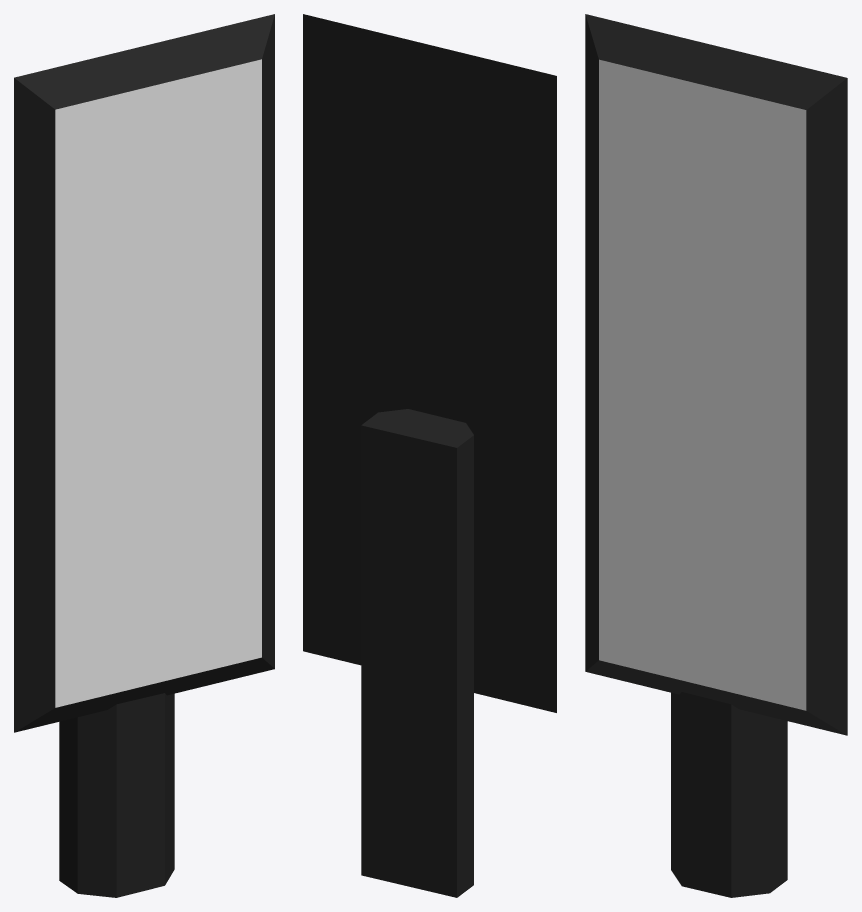
The model's file is StructureLight03_Art.fbx.
3 renders of one model, left to right at view 1: azimuth 30°, elevation 25°; view 2: azimuth 150°, elevation 25°; view 3: azimuth 330°, elevation 25°, orthographic. The views are drawn at different scales.
Visible parts, largest first — view 1: StructureLight03_Art; view 2: StructureLight03_Art; view 3: StructureLight03_Art.
Boxes of the visible parts, x1,y1,x2,y2 form: StructureLight03_Art: [14, 14, 274, 897]; StructureLight03_Art: [303, 14, 556, 897]; StructureLight03_Art: [585, 14, 847, 897].
Bounding box in the file's own units: 0.6394 × 1.97 × 0.1843.
